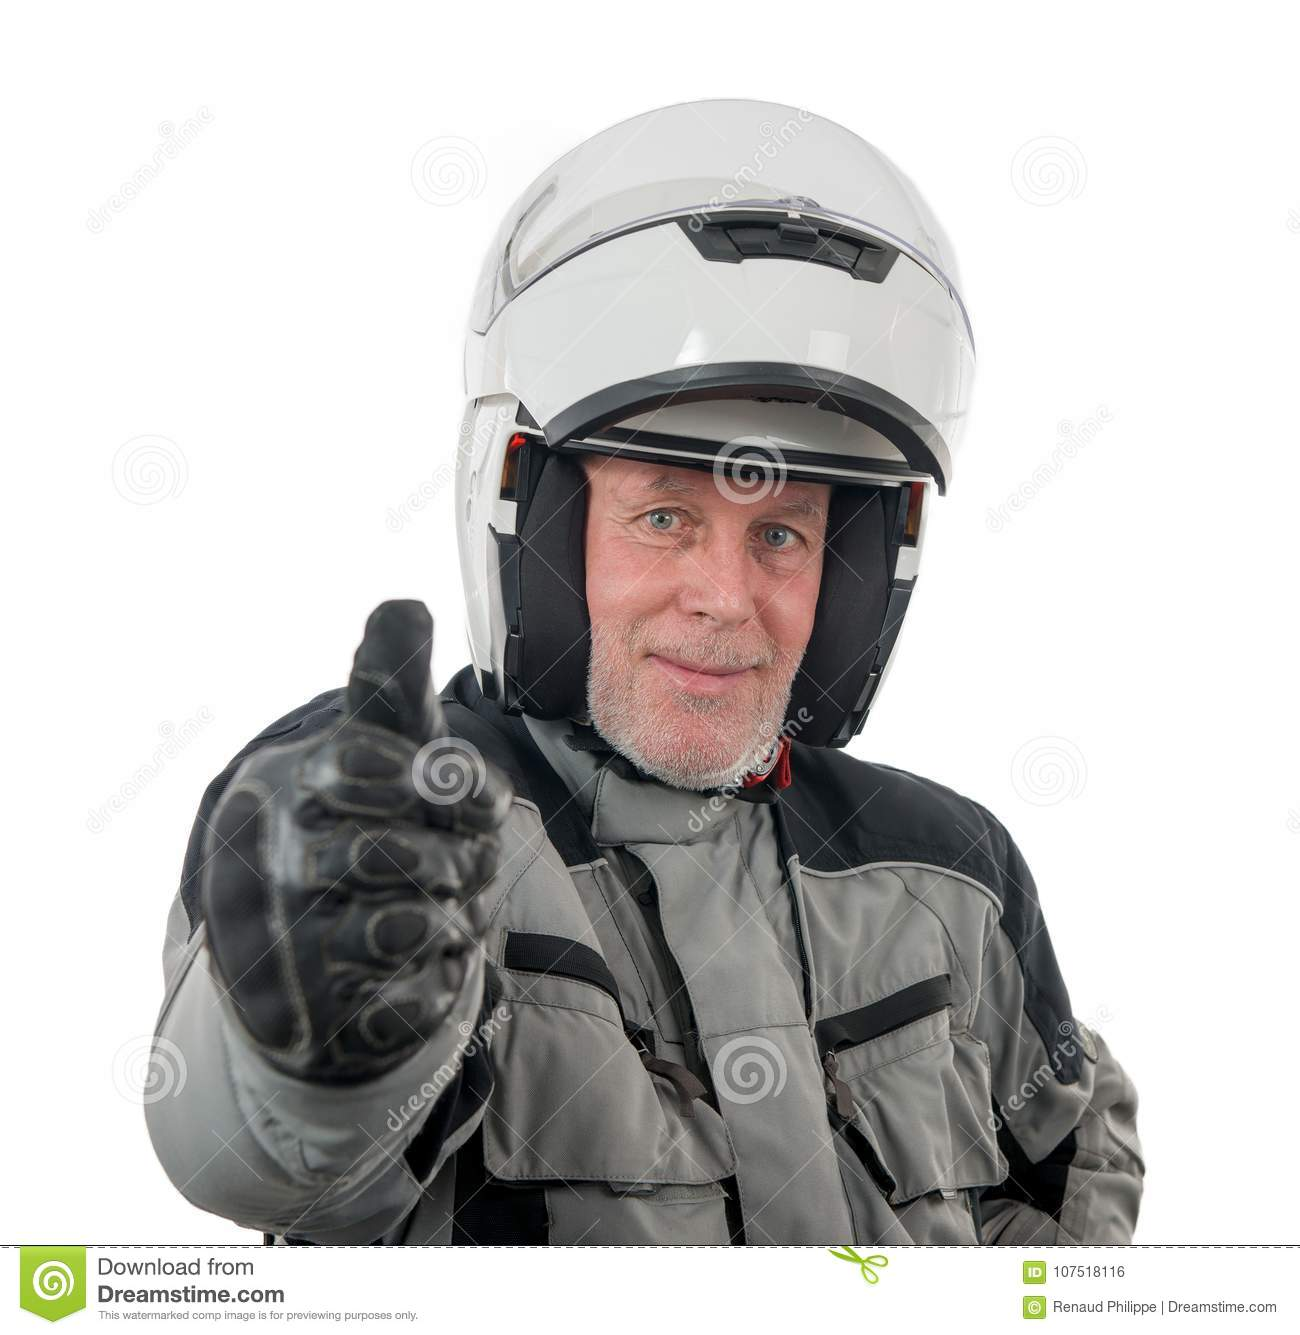helmet: (429, 173, 965, 750)
